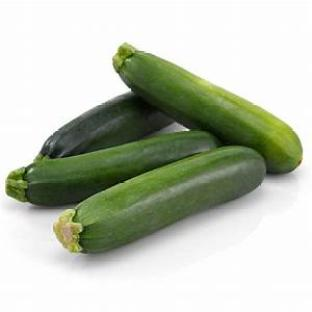Zucchini: (114, 44, 302, 172), (54, 147, 266, 252), (7, 131, 219, 205), (37, 92, 172, 160)
